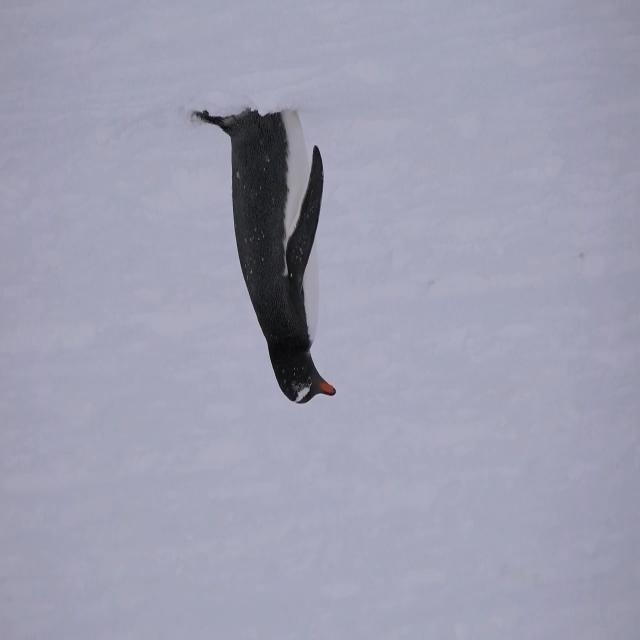penguin: (192, 104, 337, 404)
